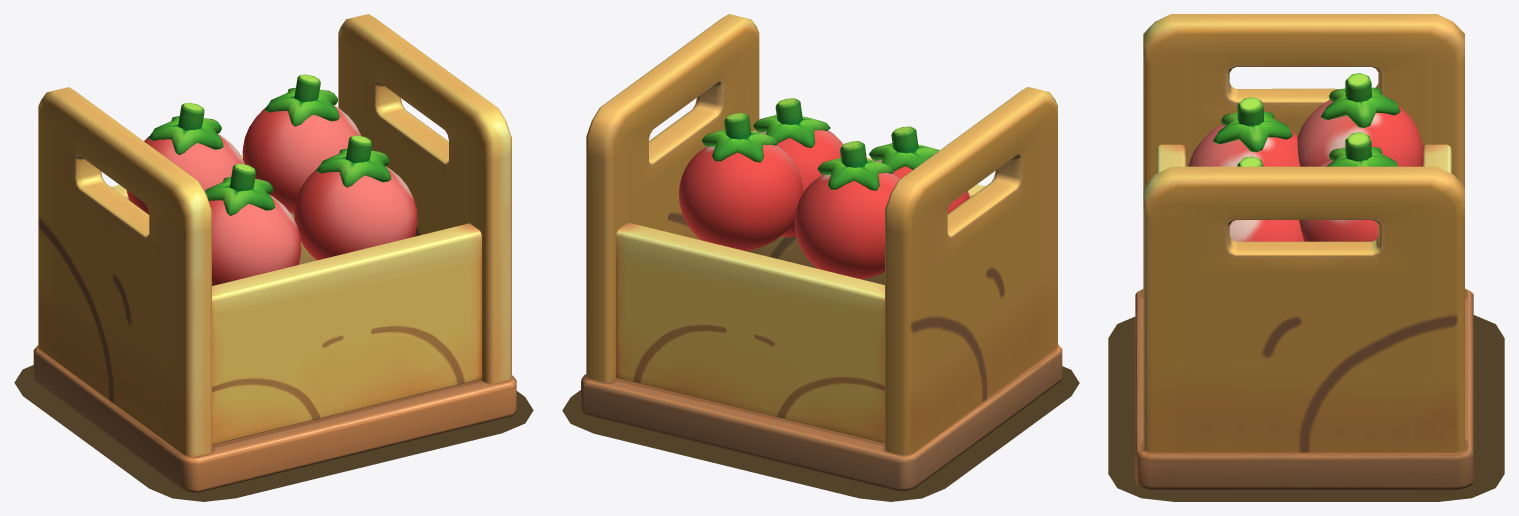
File: Tomato_L03.fbx
3 renders of one model, left to right at view 1: azimuth 30°, elevation 25°; view 2: azimuth 150°, elevation 25°; view 3: azimuth 270°, elevation 25°, orthographic. The views are drawn at different scales.
Visible parts, largest first — view 1: Tomato_WT, Tomato_body, TomatoL3_SDW; view 2: Tomato_WT, Tomato_body, TomatoL3_SDW; view 3: Tomato_WT, Tomato_body, TomatoL3_SDW.
Part boxes in pixels (left/top/right/bottom): Tomato_WT: left=33, top=14, right=516, bottom=492; Tomato_body: left=126, top=74, right=417, bottom=285; TomatoL3_SDW: left=14, top=365, right=533, bottom=501; Tomato_WT: left=581, top=14, right=1062, bottom=491; Tomato_body: left=678, top=98, right=969, bottom=279; TomatoL3_SDW: left=562, top=366, right=1079, bottom=501; Tomato_WT: left=1135, top=14, right=1473, bottom=489; Tomato_body: left=1188, top=73, right=1423, bottom=241; TomatoL3_SDW: left=1108, top=315, right=1504, bottom=501.
Size of the model in its own units: 102 by 77.29 by 88.98.
